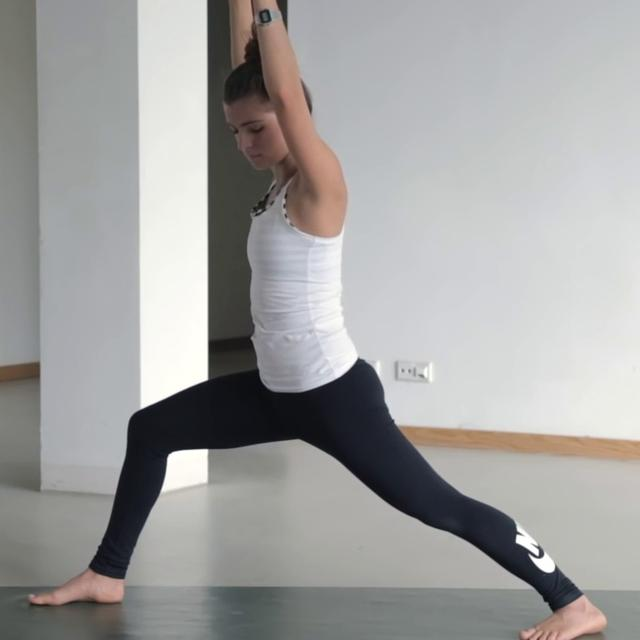Warrior_I: (14, 1, 612, 634)
